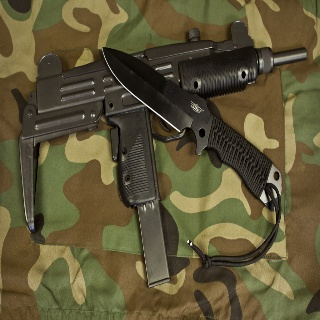rifle: (10, 18, 310, 292)
